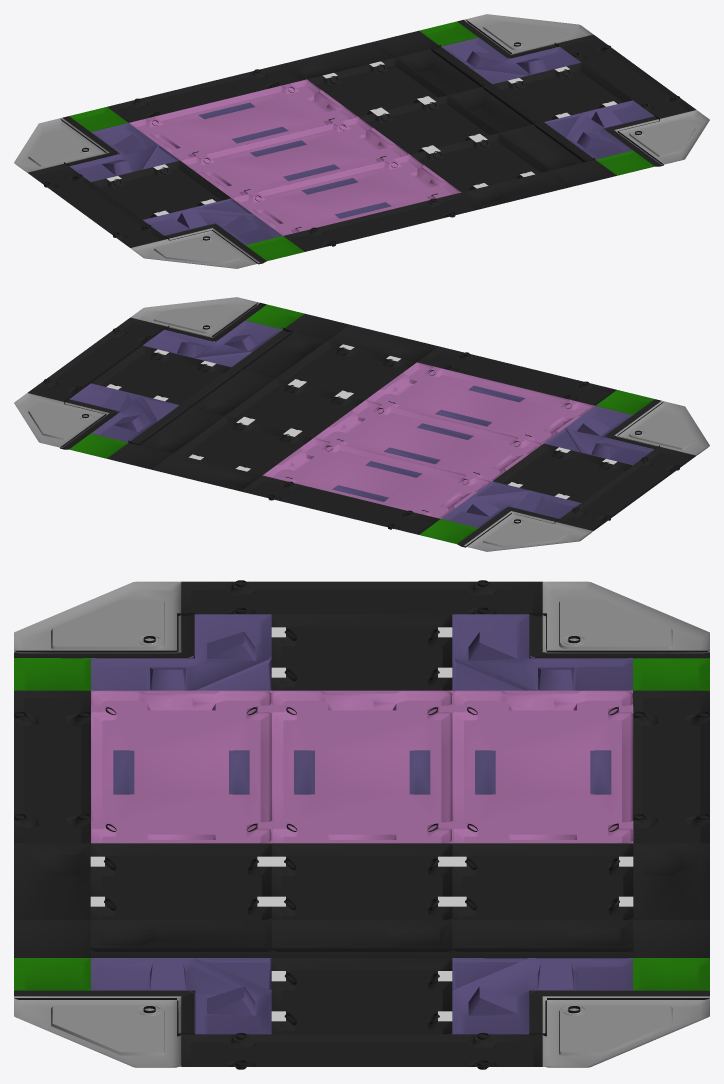
File: Building_C_Room_A_Ceiling_A.fbx
3 renders of one model, top to bottom at view 1: azimuth 30°, elevation 25°; view 2: azimuth 150°, elevation 25°; view 3: azimuth 270°, elevation 25°, orthographic. The views are drawn at different scales.
Visible parts, largest first — view 1: Geom_Building_C_Room_A_Ceiling_A_LOD00; view 2: Geom_Building_C_Room_A_Ceiling_A_LOD00; view 3: Geom_Building_C_Room_A_Ceiling_A_LOD00.
Part boxes in pixels (x1,y1,x2,y2): Geom_Building_C_Room_A_Ceiling_A_LOD00: (14, 14, 709, 268); Geom_Building_C_Room_A_Ceiling_A_LOD00: (14, 297, 709, 551); Geom_Building_C_Room_A_Ceiling_A_LOD00: (14, 580, 709, 1069).
Size of what is drawn, in the model's own units: 2540 by 49.47 by 1540.
